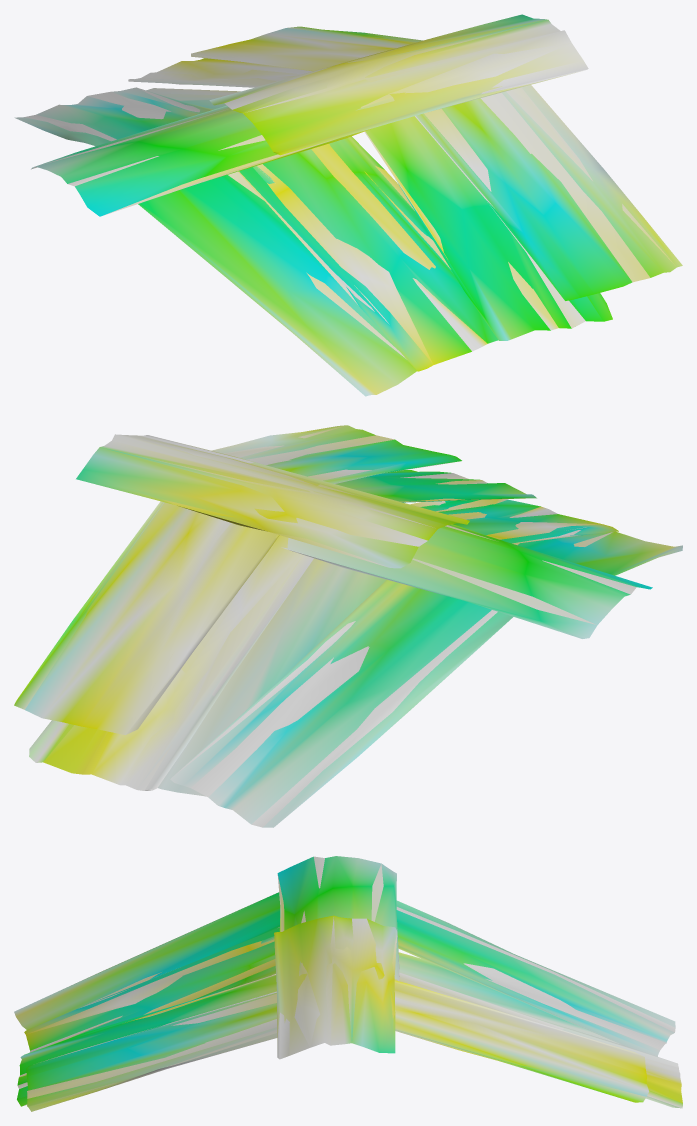
The model's file is SM_MillTop_Roof_NN_02a.FBX.
3 renders of one model, top to bottom at view 1: azimuth 30°, elevation 25°; view 2: azimuth 150°, elevation 25°; view 3: azimuth 270°, elevation 25°, orthographic. The views are drawn at different scales.
Visible parts, largest first — view 1: SM_MillTop_Roof_NN_02a_LOD0; view 2: SM_MillTop_Roof_NN_02a_LOD0; view 3: SM_MillTop_Roof_NN_02a_LOD0.
Part boxes in pixels (left/top/right/bottom): SM_MillTop_Roof_NN_02a_LOD0: left=14, top=14, right=682, bottom=396; SM_MillTop_Roof_NN_02a_LOD0: left=14, top=425, right=682, bottom=827; SM_MillTop_Roof_NN_02a_LOD0: left=14, top=856, right=682, bottom=1111.
Size of what is drawn, in the model's own units: 495 by 655 by 142.
